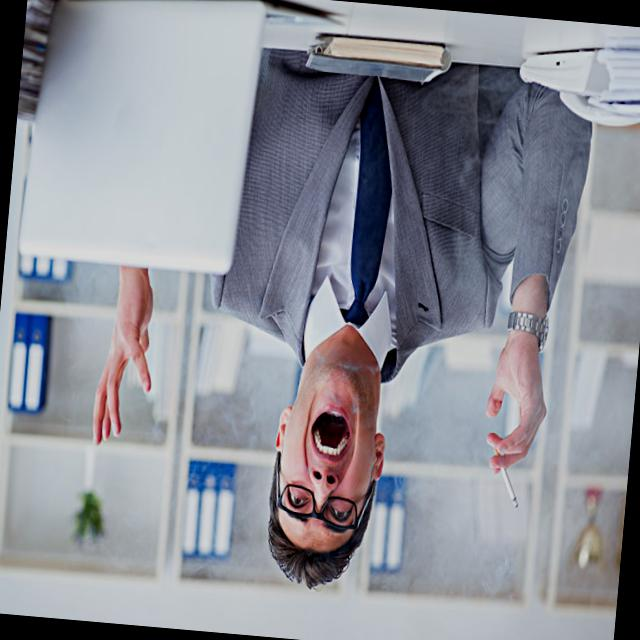smoke: (494, 464, 524, 509)
